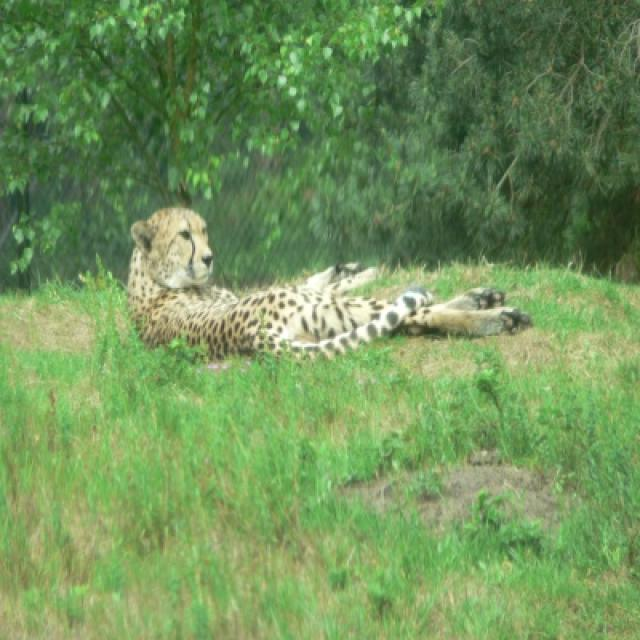Cheetah: (125, 208, 526, 362)
